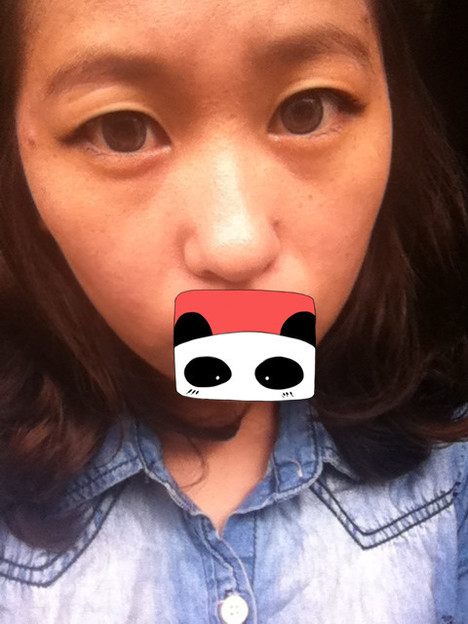face: (41, 2, 396, 391)
